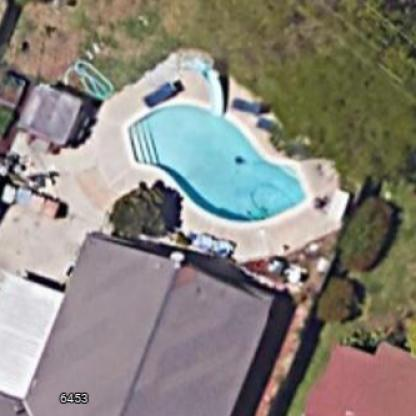pool: (119, 84, 317, 236)
